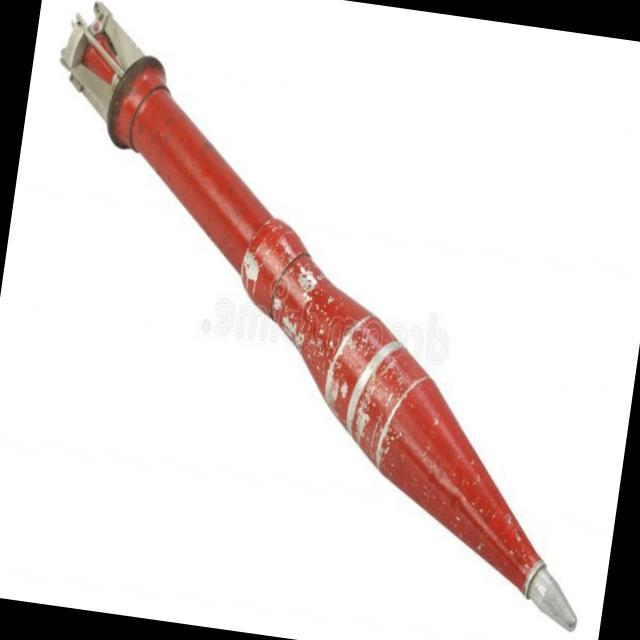grenade: (0, 6, 640, 633)
